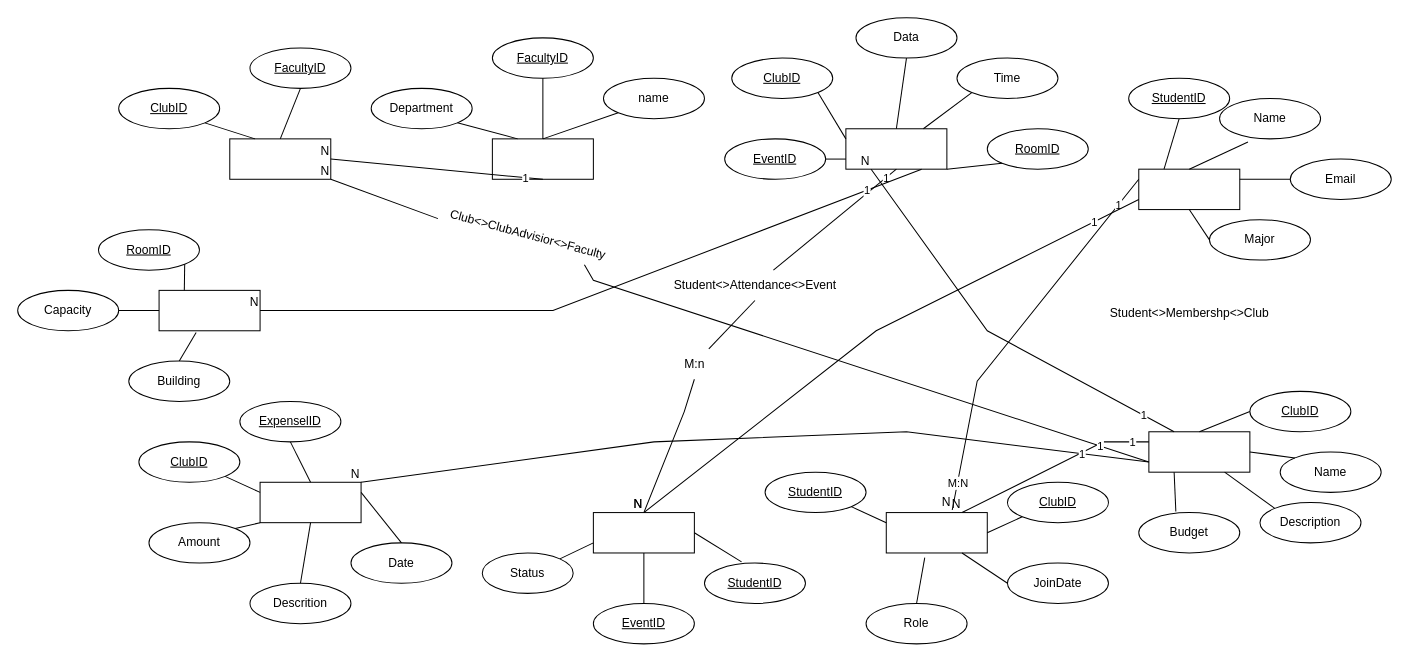
Image size: 1409x662. Some labels were removed from this diagram. Here are the shapes that lost their labels. From the top down, the centre of each, then its label:
At (280,158): "ClubAdvisor".
At (542,158): "Faculty".
At (896,148): "Event".
At (1189,189): "student".
At (209,310): "Room".
At (1199,451): "Club".
At (310,502): "Expense".
At (643,532): "Attendance".
At (936,532): "Membership".
